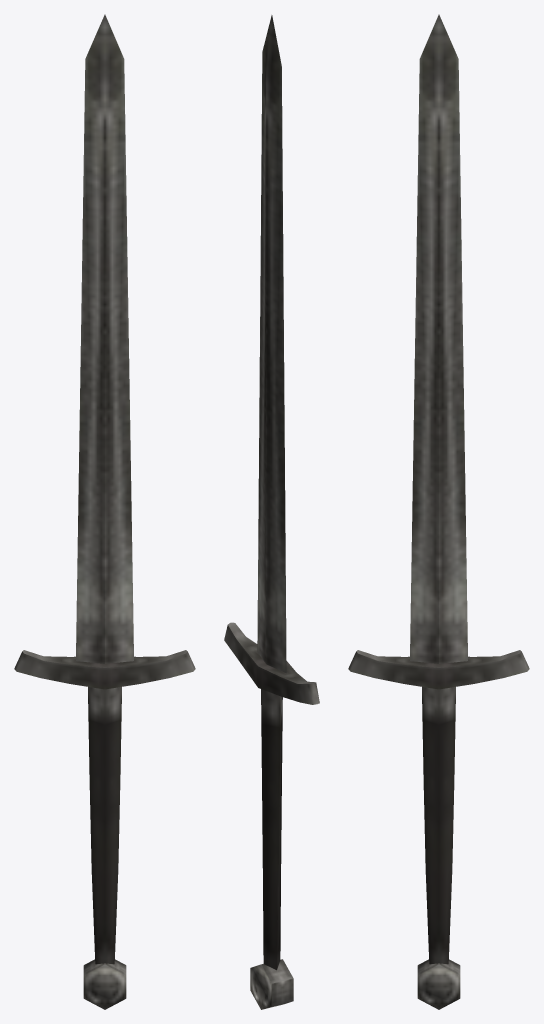
File: sword.glb
3 renders of one model, left to right at view 1: azimuth 90°, elevation 25°; view 2: azimuth 210°, elevation 25°; view 3: azimuth 270°, elevation 25°, orthographic.
Parts seen in each view (by area): view 1: Espada; view 2: Espada; view 3: Espada.
Boxes of the visible parts, x1,y1,x2,y2 form: Espada: (14,14,195,1009); Espada: (224,15,319,1009); Espada: (348,14,529,1009).
Bounding box in the file's own units: 0.0367 × 1.27 × 0.2104.
1 material, 1 textured.
